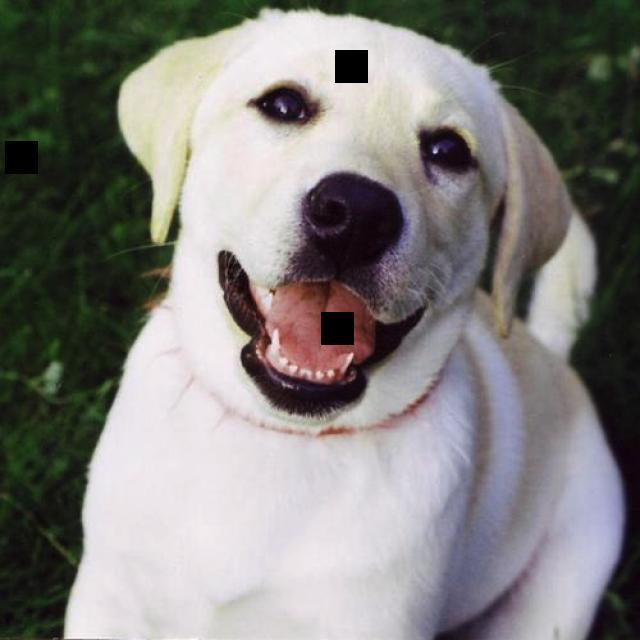puppy-dog: (59, 7, 628, 640)
